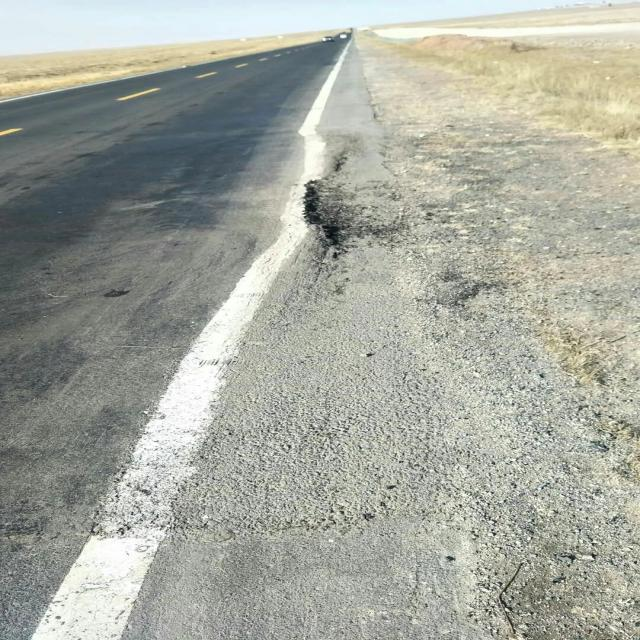Pothole: (284, 137, 412, 303)
